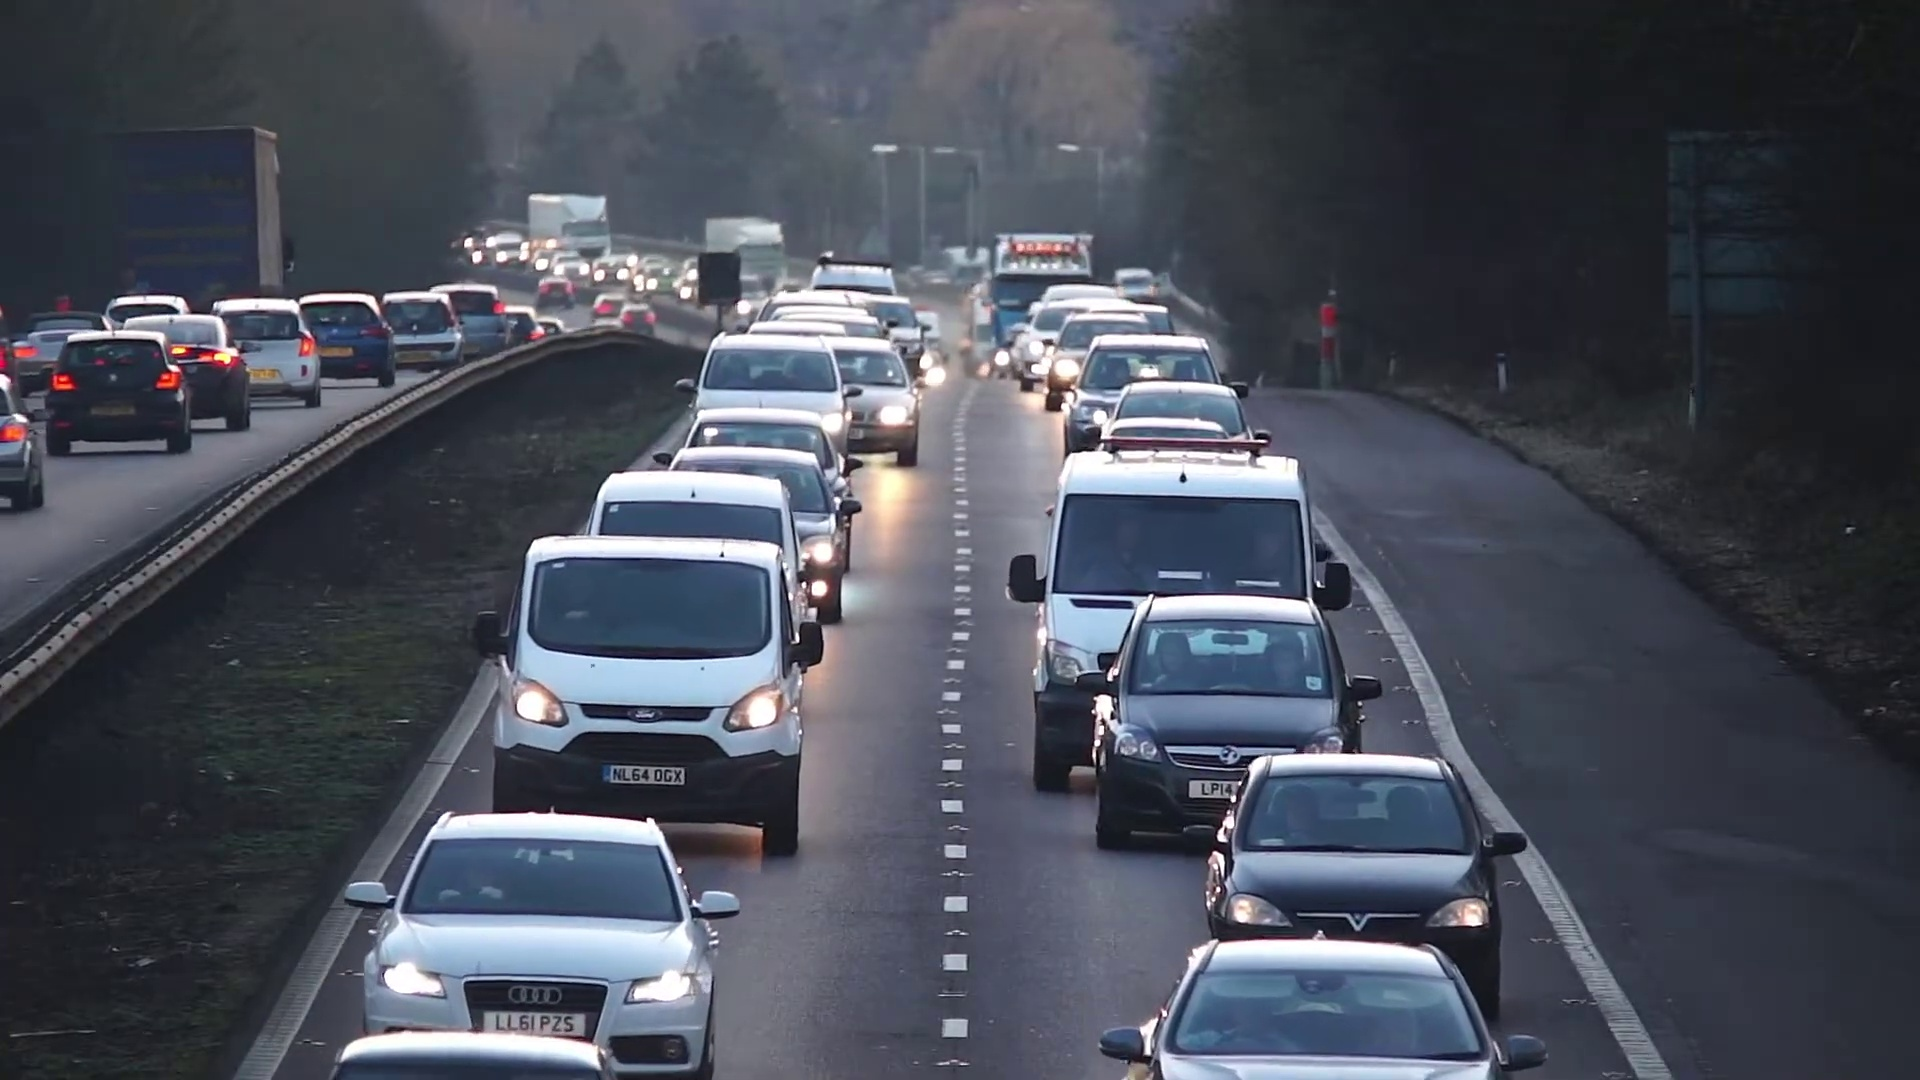license_plate: (474, 1009, 585, 1040), (600, 762, 689, 791)
